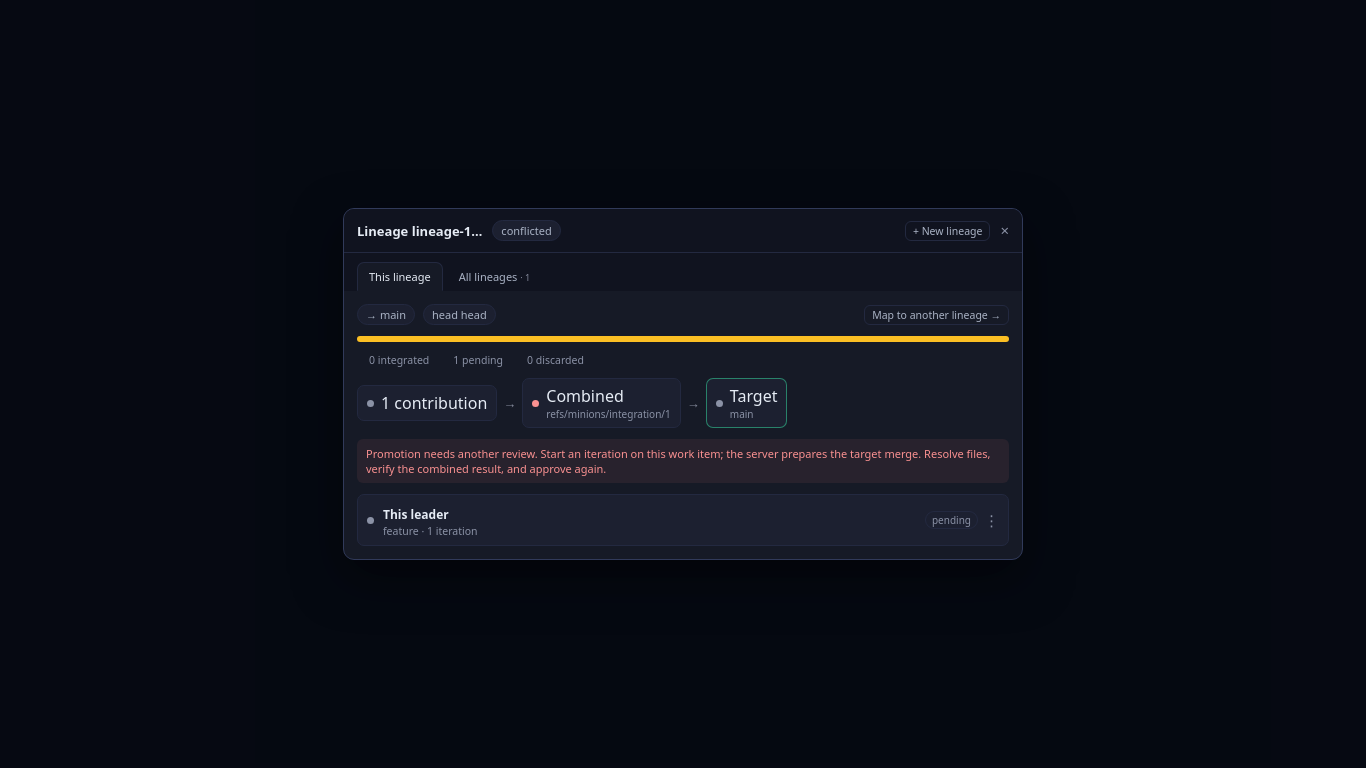
Test: <LineageModal /> › surfaces conflict recovery and pending gates for a conflicted contribution
Check: the message shows "Promotion needs another review", box [366,446,990,476]
Step 1. Click the text "This leader" → (416, 514), box [383,506,449,523]
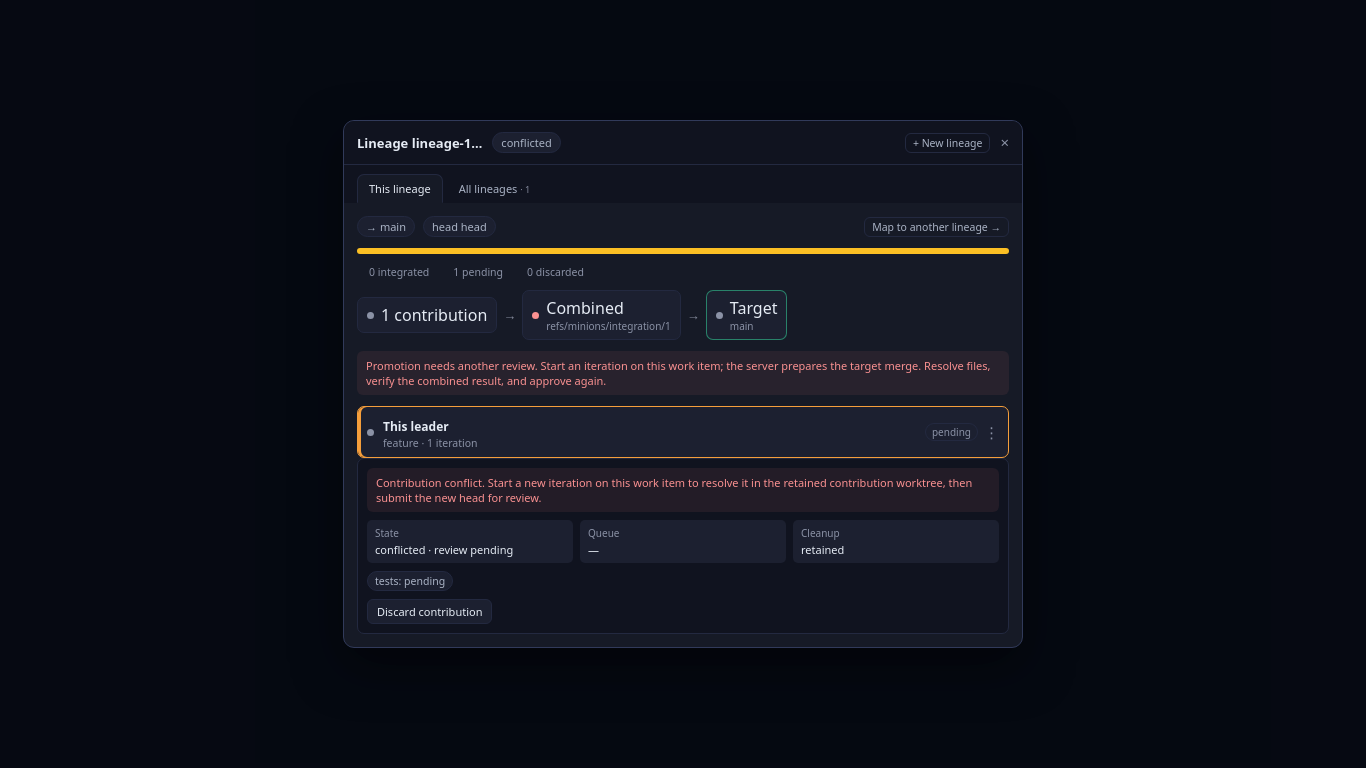
Check: the text "Start a new iteration" is shown, box [376,475,972,505]
Check: the list item "tests: pending" is shown, box [367,571,453,591]
